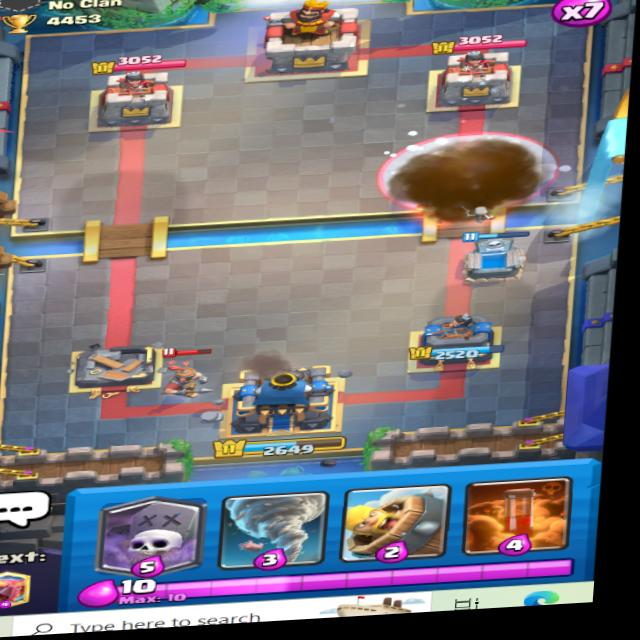freeze: (379, 116, 562, 219)
royal-recruits: (149, 344, 220, 406)
